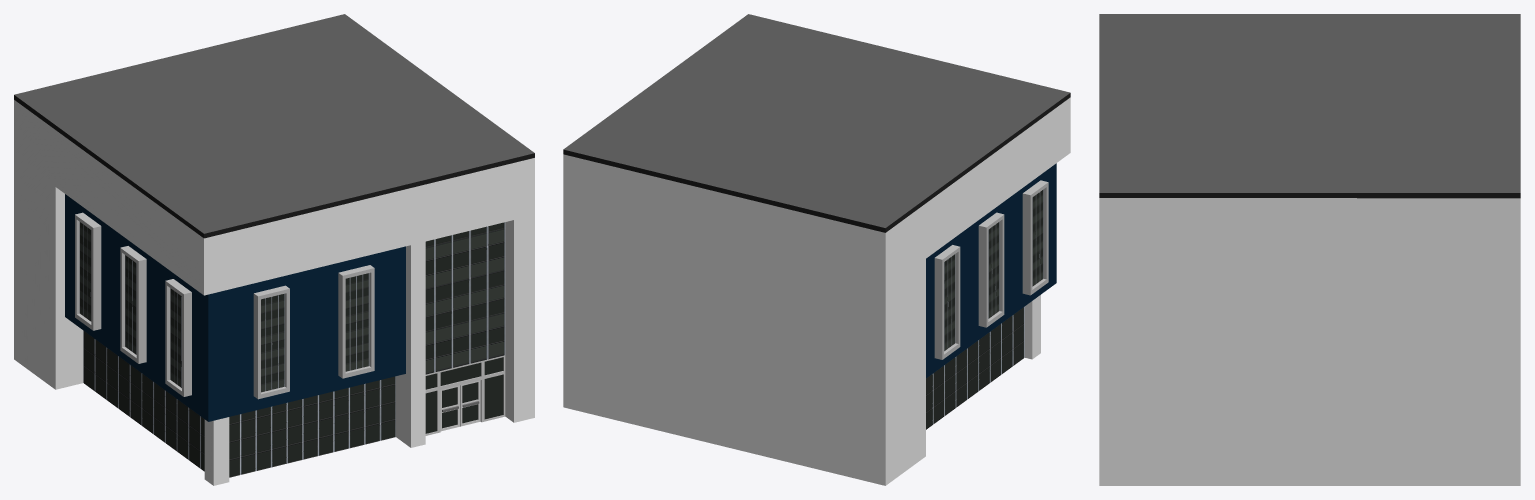
3 renders of one model, left to right at view 1: azimuth 30°, elevation 25°; view 2: azimuth 150°, elevation 25°; view 3: azimuth 270°, elevation 25°, orthographic. The views are drawn at different scales.
Parts seen in each view (by area): view 1: EB-02; view 2: EB-02; view 3: EB-02.
Part boxes in pixels (x1,y1,x2,y2): EB-02: [14, 14, 534, 485]; EB-02: [563, 14, 1070, 485]; EB-02: [1099, 14, 1520, 485].
Size of what is drawn, in the model's own units: 19.62 by 15 by 19.53.
